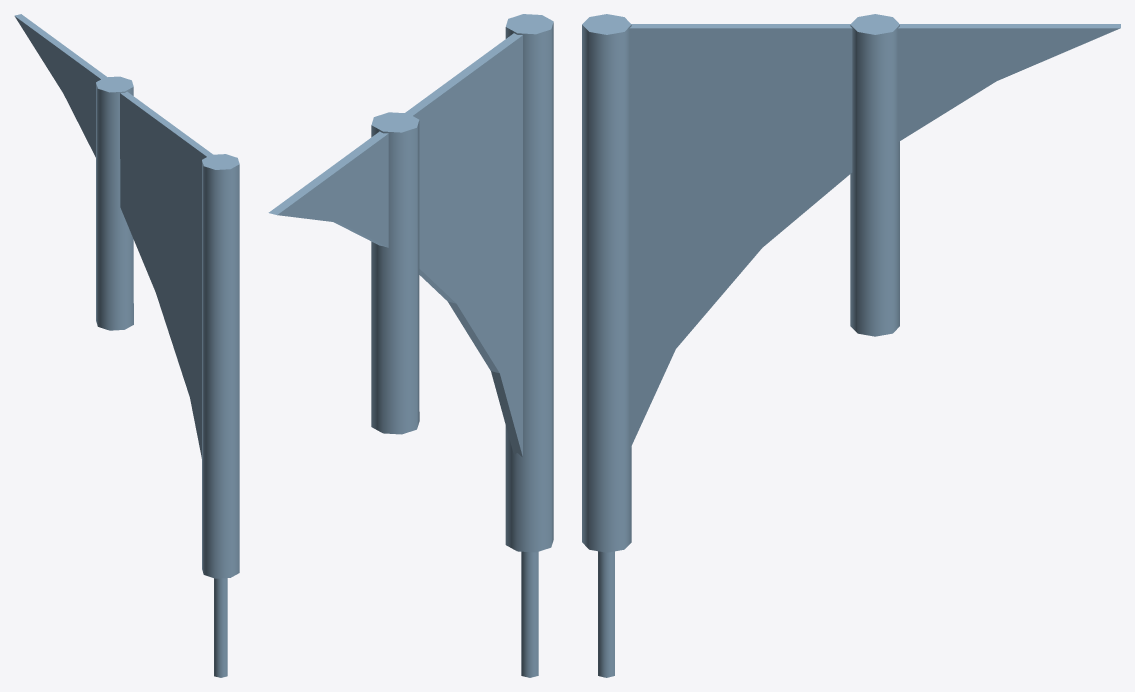
Rendered from nose mast anim.FBX.
3 views of the same model, side by side, from view 1: azimuth 30°, elevation 25°; view 2: azimuth 150°, elevation 25°; view 3: azimuth 270°, elevation 25° (orthographic). The views are drawn at different scales.
Parts seen in each view (by area): view 1: nose mast anim; view 2: nose mast anim; view 3: nose mast anim.
Boxes of the visible parts, left/top/right/bottom form: nose mast anim: left=14, top=14, right=239, bottom=677; nose mast anim: left=268, top=14, right=553, bottom=677; nose mast anim: left=582, top=14, right=1120, bottom=677.
Size of the model in its own units: 0.00254 by 0.0275 by 0.0366.
